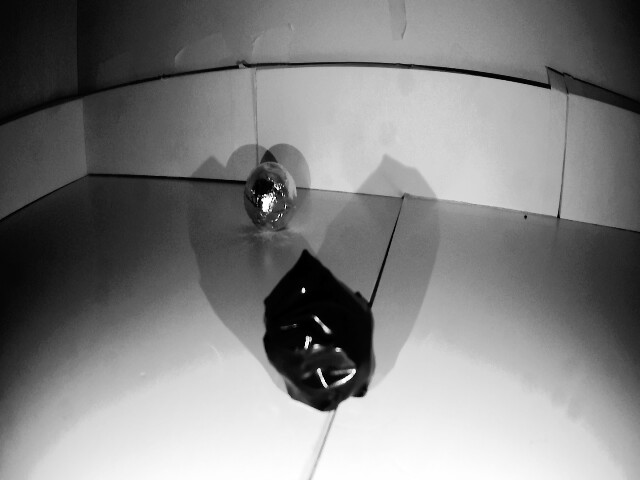black: (238, 166, 296, 236)
silver: (263, 250, 383, 405)
